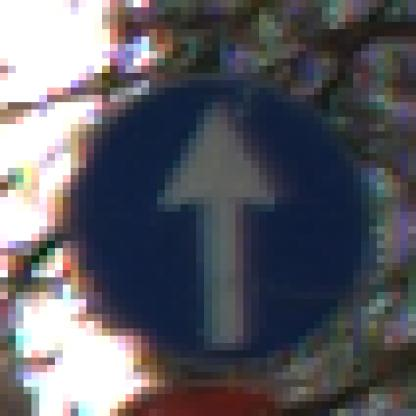AheadOnly: (40, 38, 370, 373)
